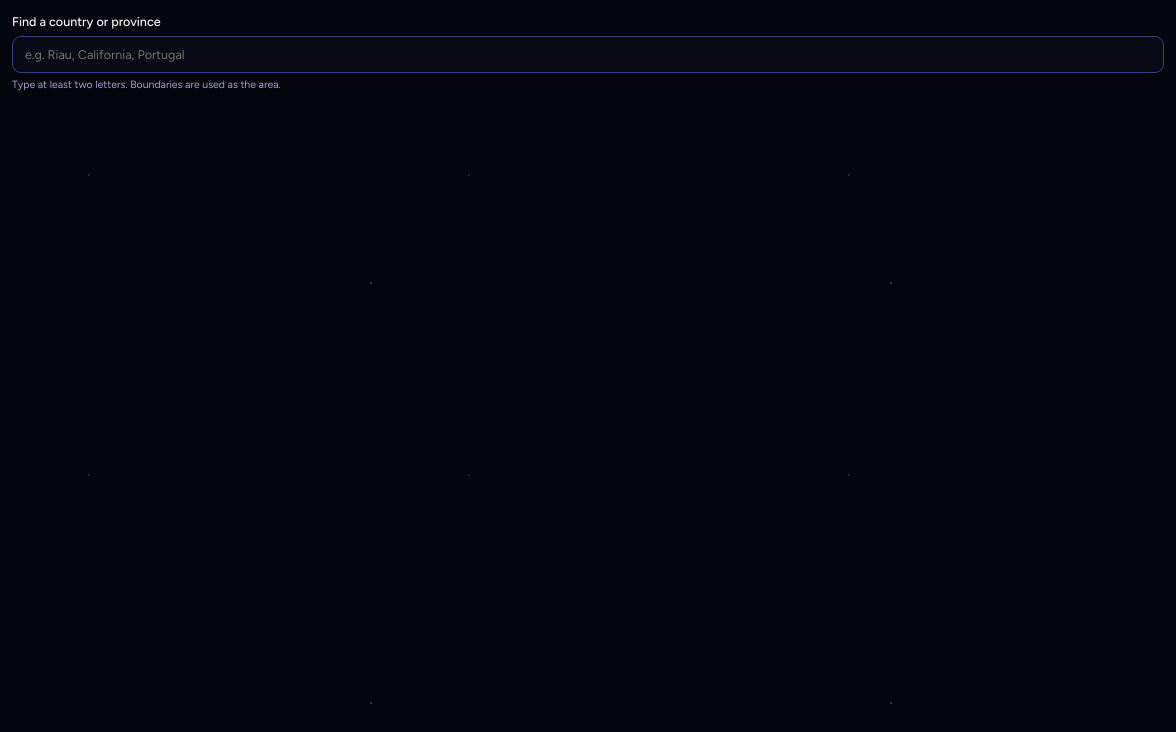
Test: RegionSearch › searches regions and uses the selected boundary as the AOI
Later steps or results of the test are not shown.
Type "ri" into the search field labelled "Find a country or province".
click(588, 54); type("ri")  # box [12, 36, 1164, 73]
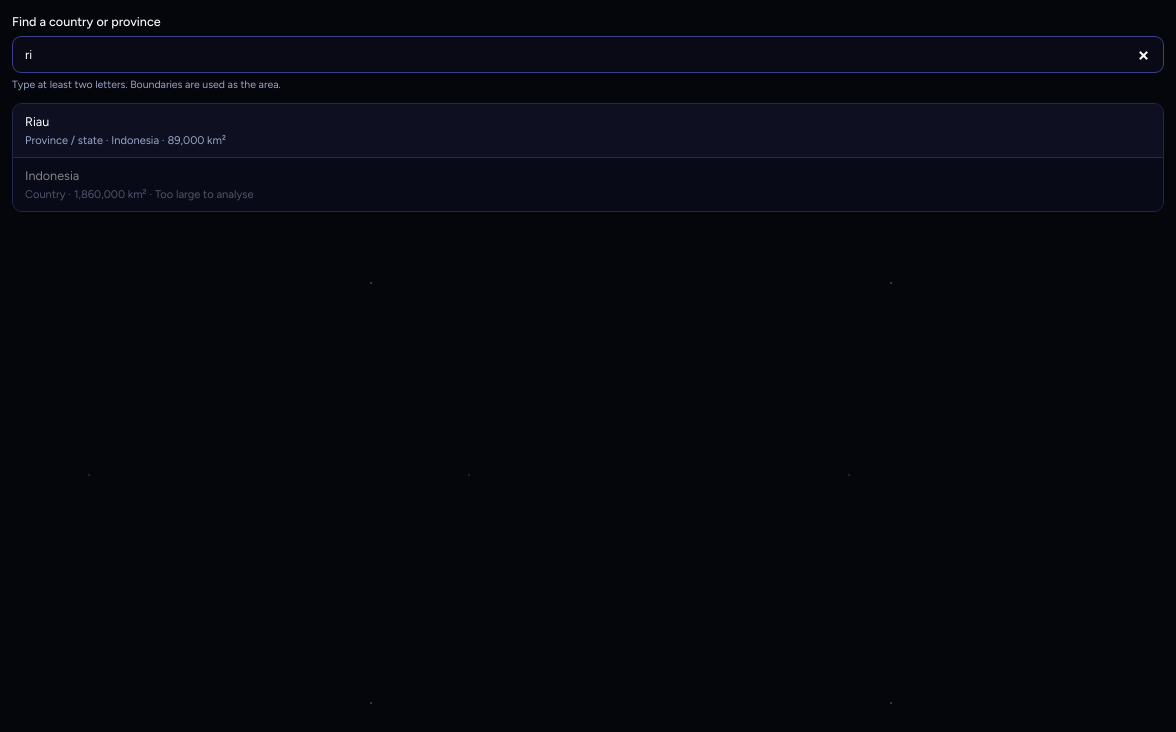
Check: the button "Riau Province / state · Indonesia · 89,000 km²" is shown, box [13, 104, 1163, 158]
